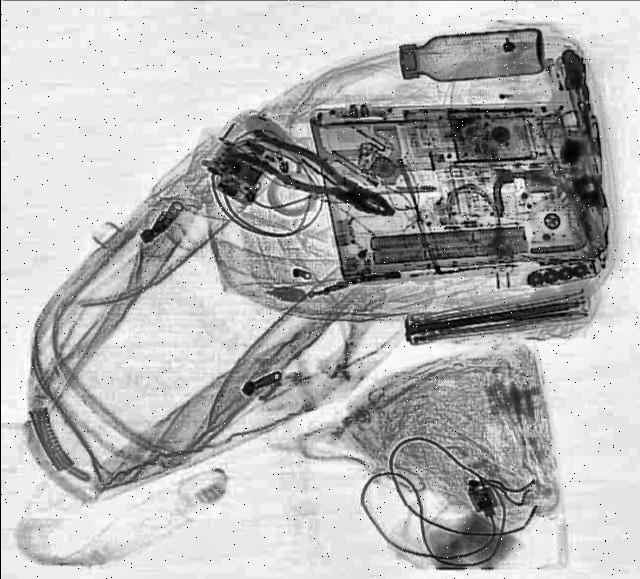Pliers: (226, 119, 404, 230)
